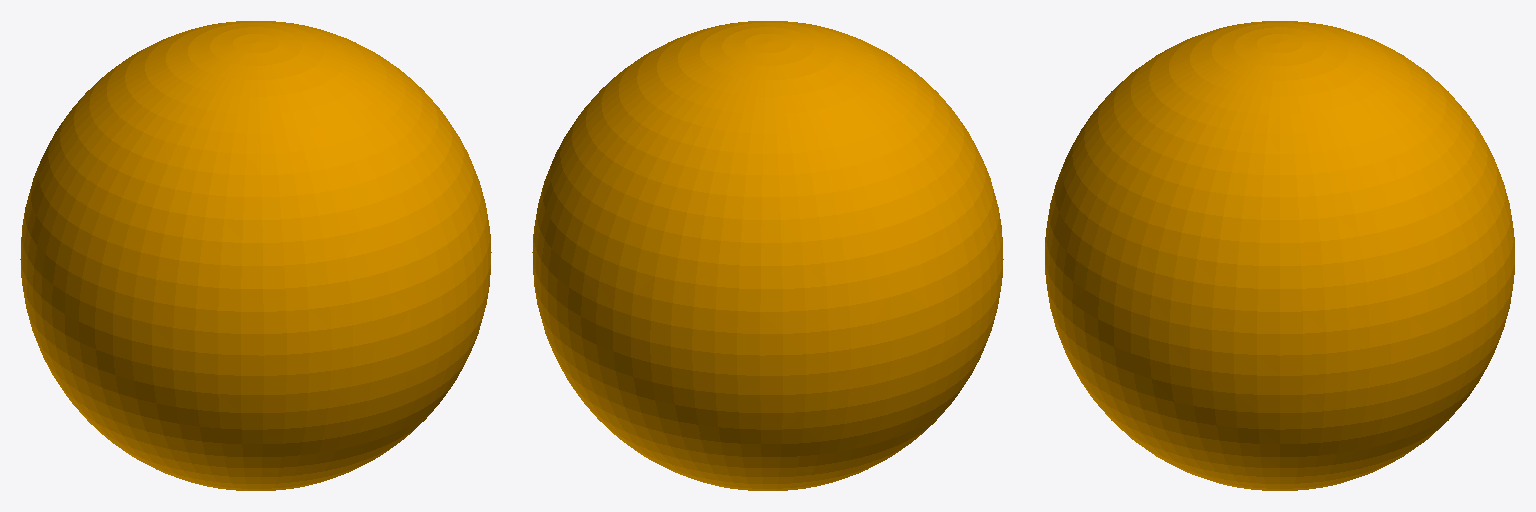
URDF robot description (marble):
<?xml version="1.0" ?>
<robot name="marble">
  <link name="base_link">
    <inertial>
      <origin xyz="0 0 0.008" rpy="0 0 0"/>
      <mass value="0.0054"/>
      <inertia ixx="2.304e-07" ixy="0" ixz="0" iyy="2.304e-07" iyz="0" izz="2.304e-07"/>
    </inertial>
    <visual name="visual">
      <origin xyz="0 0 0" rpy="0 0 0"/>
      <geometry>
        <mesh filename="meshes/visual.obj" scale="1 1 1"/>
      </geometry>
    </visual>
    <collision name="sphere">
      <origin xyz="0 0 0" rpy="0 0 0"/>
      <geometry>
        <mesh filename="meshes/collision/sphere.obj" scale="1 1 1"/>
      </geometry>
    </collision>
  </link>
</robot>

--- Facts derived from the render (not from the file) ---
Views: 3 orthographic renders of the robot side by side, from view 1: azimuth 30°, elevation 25°; view 2: azimuth 150°, elevation 25°; view 3: azimuth 270°, elevation 25°.
Robot: marble — 1 links, 0 joints (none); root link base_link; default pose: all joints at 0.
Visible links, largest first — view 1: base_link; view 2: base_link; view 3: base_link.
Boxes of the visible links, x1,y1,x2,y2 form: base_link: (20, 21, 491, 490); base_link: (532, 21, 1003, 490); base_link: (1045, 21, 1514, 490).
Size in the robot's own frame: 0.016 by 0.016 by 0.016 metres.
1 mesh visuals loaded from 1 distinct referenced files (1 OBJ).
